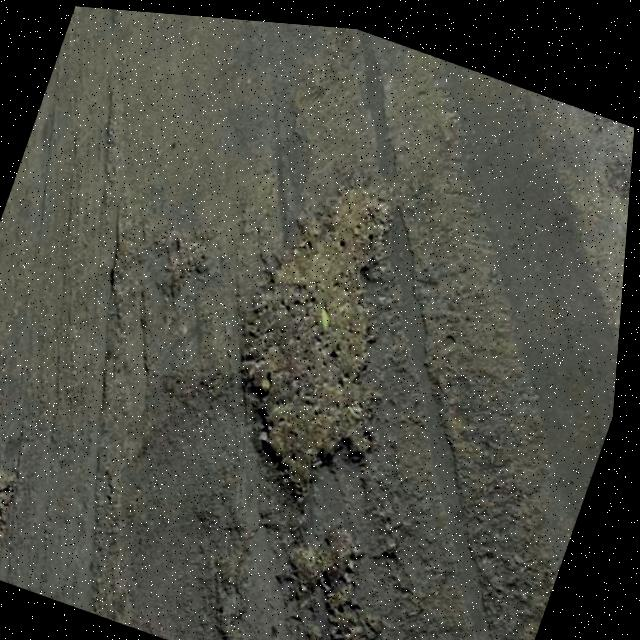Pothole: (184, 133, 468, 524), (277, 494, 379, 613), (0, 383, 58, 579), (152, 215, 222, 306)
